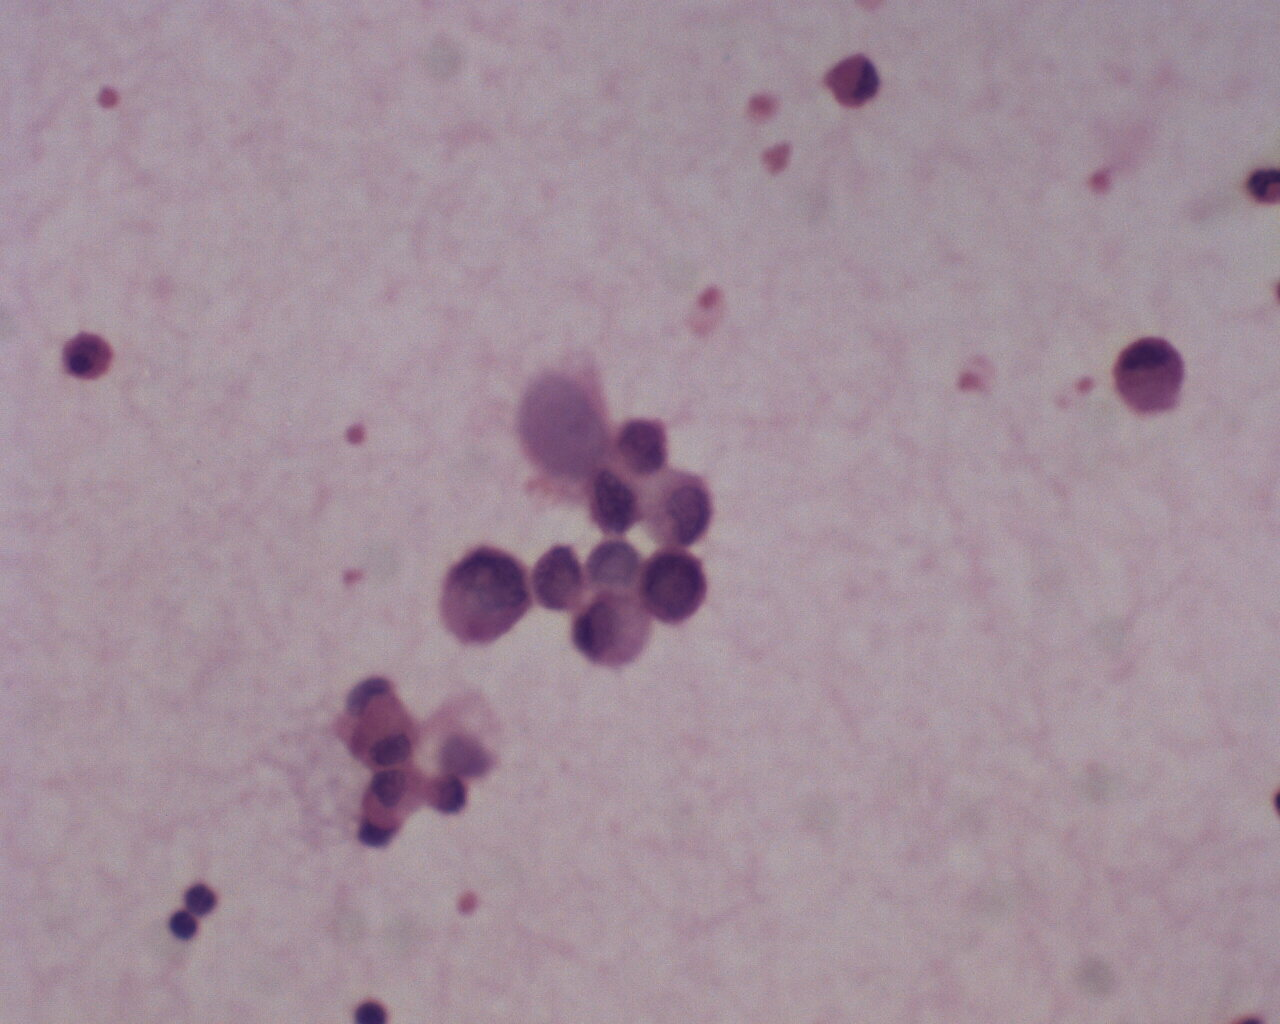ab: (440, 540, 530, 652), (636, 544, 711, 624), (529, 539, 588, 615), (582, 464, 642, 536), (614, 415, 678, 482)
histo: (1111, 330, 1190, 415)
